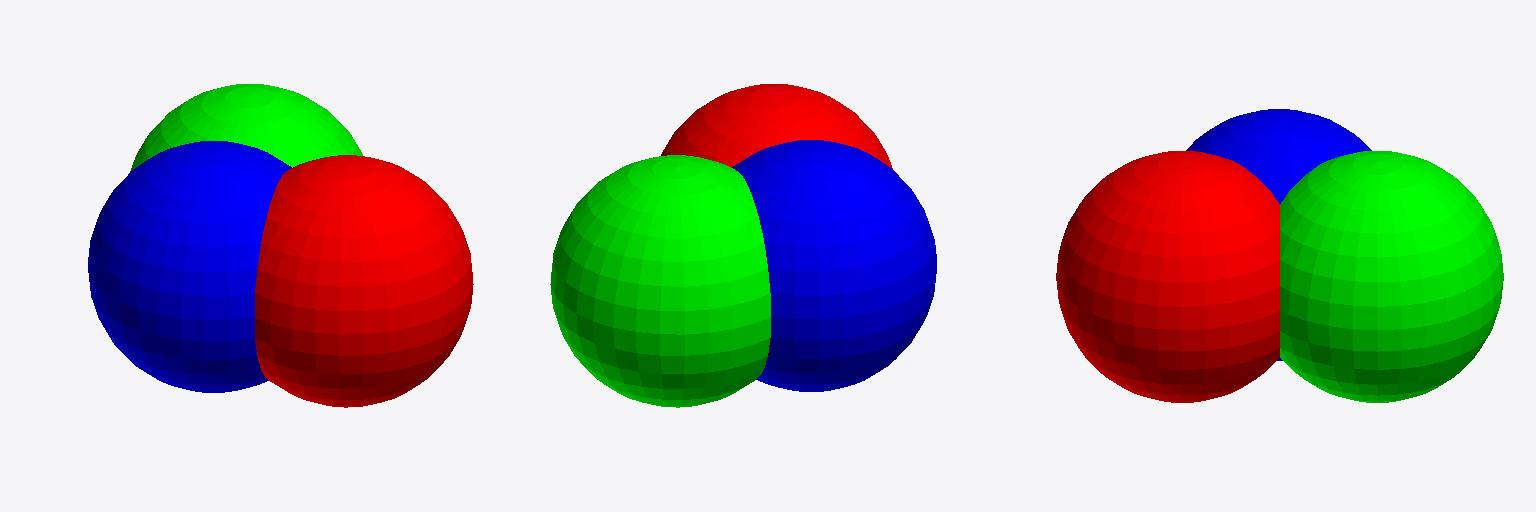
Rendered from three_spheres_aligned.obj.
The picture shows the model from 3 angles: view 1: azimuth 30°, elevation 25°; view 2: azimuth 150°, elevation 25°; view 3: azimuth 270°, elevation 25°; orthographic projection.
Parts seen in each view (by area): view 1: Sphere; view 2: Sphere; view 3: Sphere.
Part boxes in pixels (x1,y1,x2,y2): Sphere: (88,84,473,407); Sphere: (550,84,936,407); Sphere: (1056,109,1503,402).
Bounding box in the file's own units: 6.95 × 5 × 8.86.